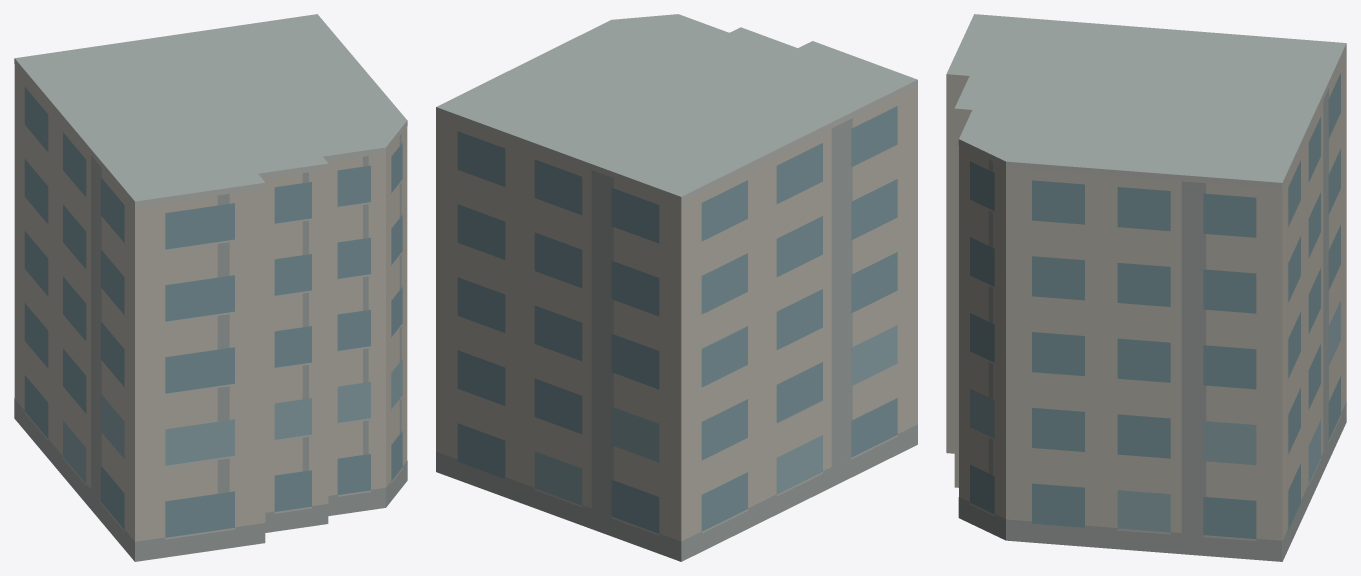
The model's file is survey-upis-32957858.glb.
The picture shows the model from 3 angles, left to right: view 1: azimuth 30°, elevation 25°; view 2: azimuth 150°, elevation 25°; view 3: azimuth 270°, elevation 25°; orthographic projection. The views are drawn at different scales.
Parts seen in each view (by area): view 1: survey-upis-32957858.tmp; view 2: survey-upis-32957858.tmp; view 3: survey-upis-32957858.tmp.
Part boxes in pixels (left/top/right/bottom): survey-upis-32957858.tmp: left=14, top=14, right=407, bottom=561; survey-upis-32957858.tmp: left=436, top=14, right=917, bottom=561; survey-upis-32957858.tmp: left=946, top=14, right=1346, bottom=561.
Bounding box in the file's own units: 14.21 × 14.86 × 14.23.
